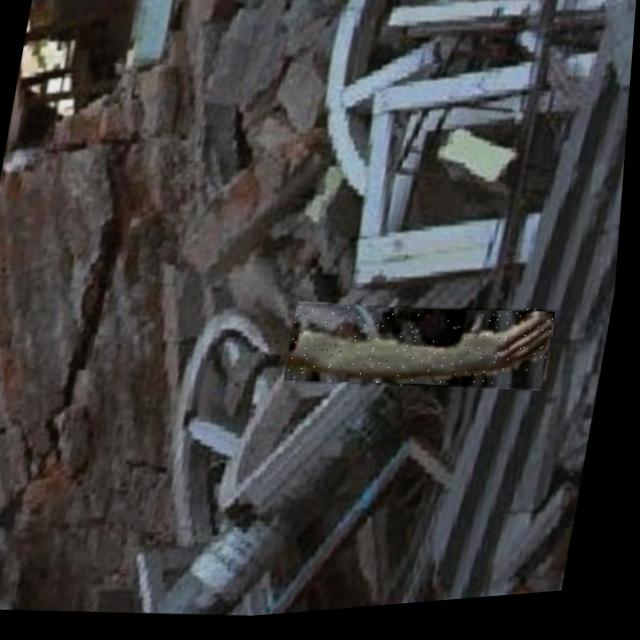Person in Rubble: (288, 291, 563, 414)
